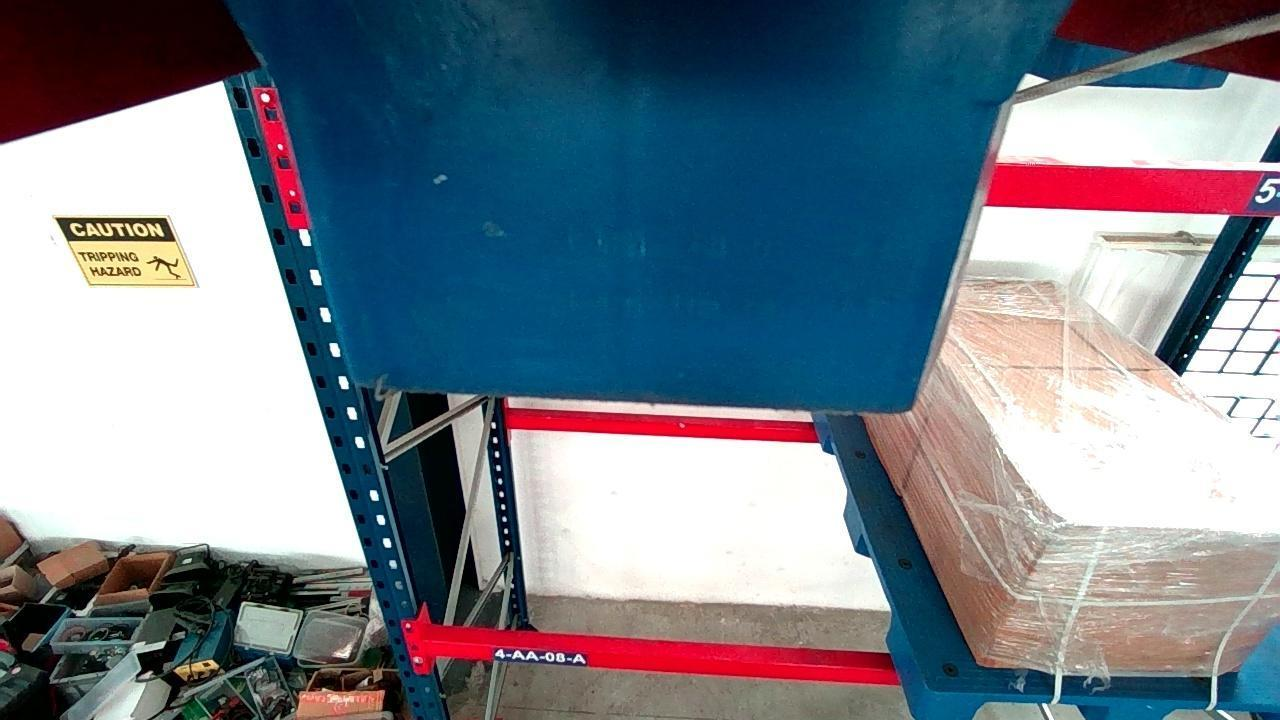h_rack: (424, 634, 900, 688), (984, 159, 1280, 219)
small_pallet: (923, 690, 1280, 720)
